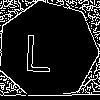L: (23, 25, 54, 73)
